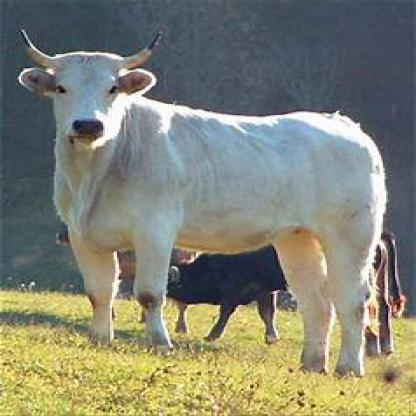cow: (19, 28, 390, 376)
